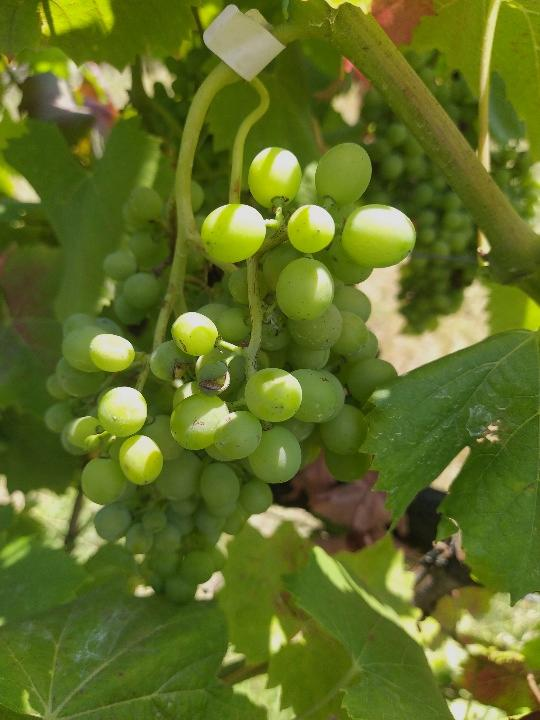grape: (42, 138, 421, 606)
